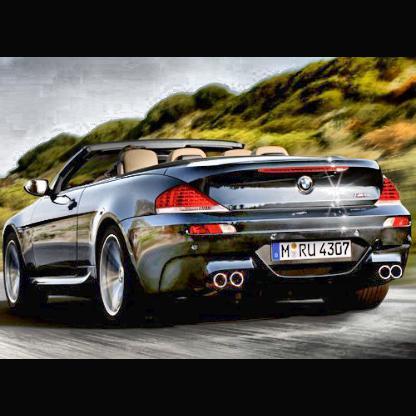BMW M6 Convertible 2010: (5, 138, 414, 324)
